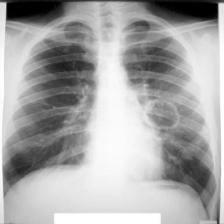tuberculosis: (2, 11, 219, 224)
